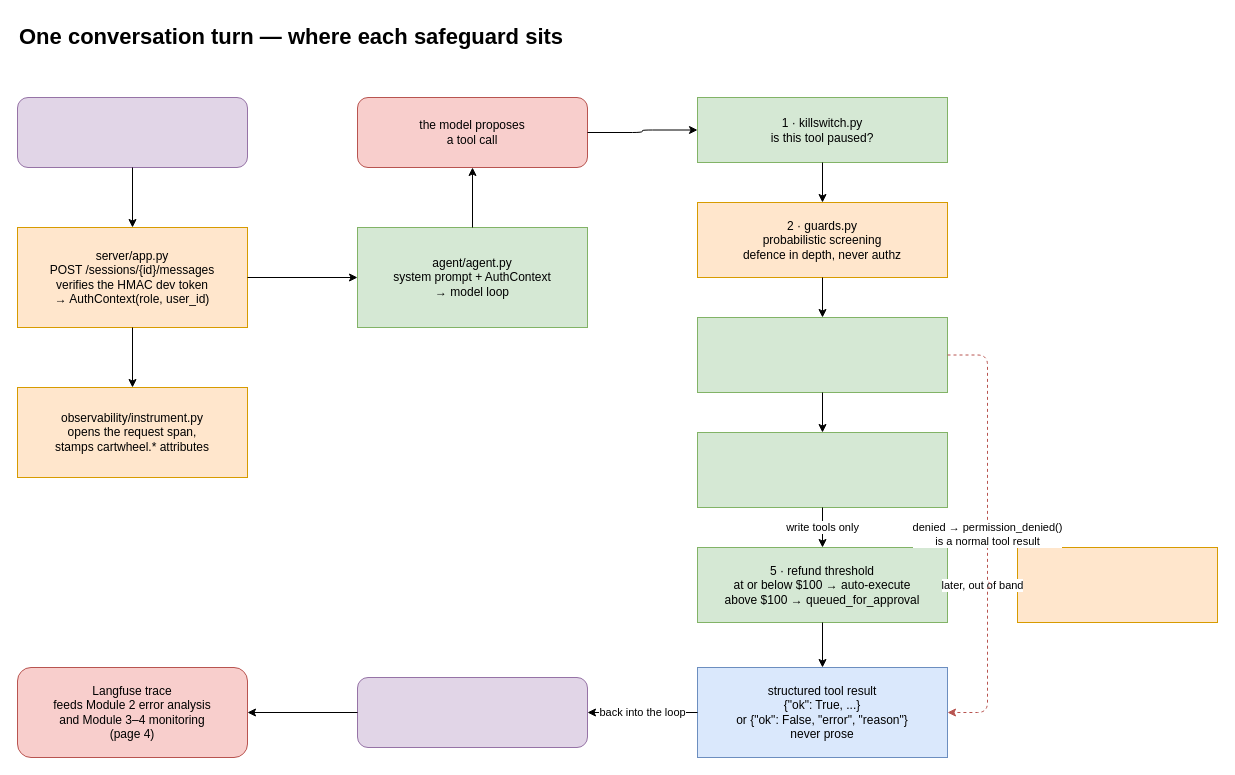
The diagram is 1235 pixels wide and 775 high, and some of its shapes have lost their labels. The shapes that lost their labels are listed below. From the top down, each one's centre as x and y in pixels, then its label:
(132,132): Shopper / merchant / support sends a message
(822,354): 3 · auth.py the access matrix — the only place authorization lives
(822,470): 4 · tool body agent/tools.py or agent.py → db.py · helpcenter.py
(1117,584): agent/review.py operator clears the queue → approvals audit row
(472,712): reply to the user
